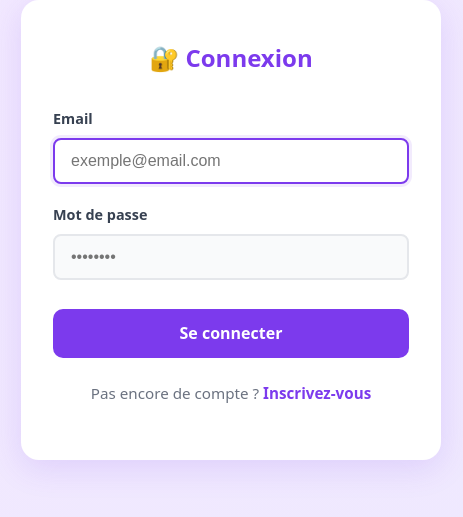
Test case: Connexion — Validation des champs › doit afficher une erreur si le mot de passe fait moins de 6 caractères
In the field with placeholder "exemple@email.com": (231, 161) [53, 138, 409, 184], type "test@test.com"
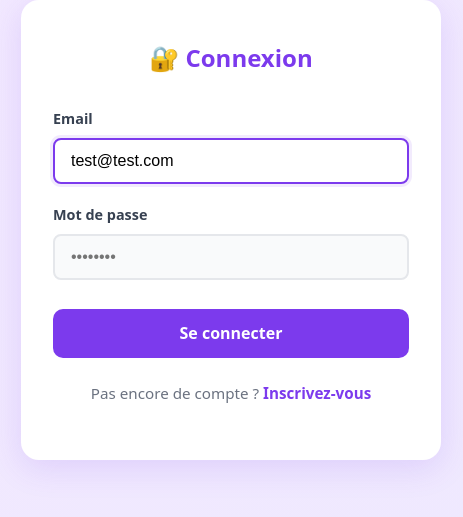
In the password field with placeholder "••••••••": (231, 257) [53, 234, 409, 280], type "abc"
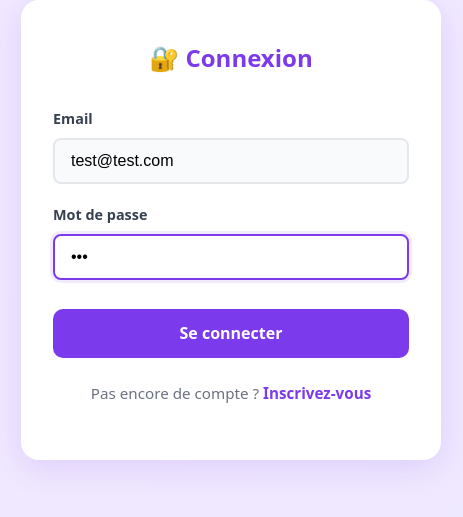
Click the button "Se connecter": (231, 333) [53, 309, 409, 358]
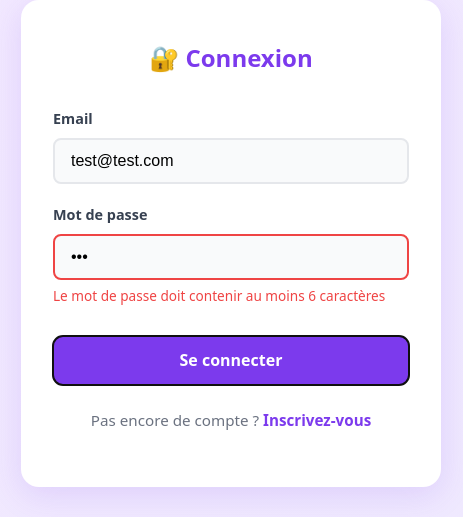
Expected: the text "Le mot de passe doit contenir au moins 6 caractères" is shown, [53, 286, 409, 307]
